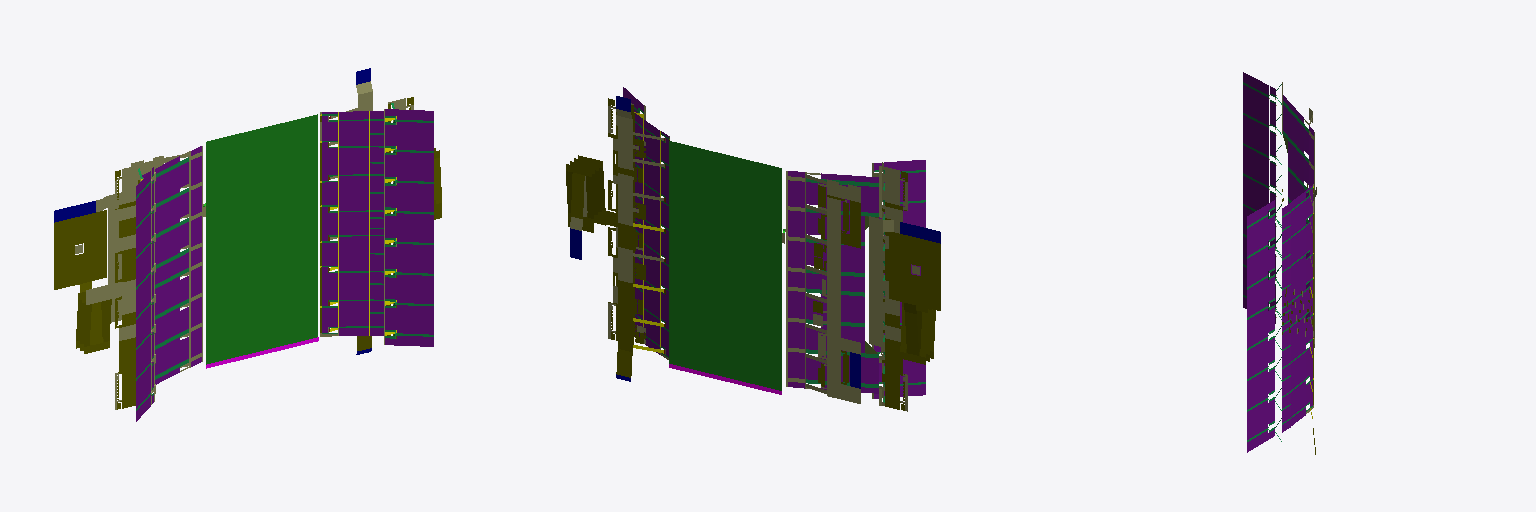
The model's file is USM.obj.
3 views of the same model, side by side, from view 1: azimuth 30°, elevation 25°; view 2: azimuth 150°, elevation 25°; view 3: azimuth 270°, elevation 25° (orthographic).
Parts seen in each view (by area): view 1: Mesh1 Model, Mesh2 Model; view 2: Mesh1 Model, Mesh2 Model; view 3: Mesh2 Model, Mesh1 Model.
Boxes of the visible parts, <box> form: Mesh1 Model: <box>54,114,318,421</box>; Mesh2 Model: <box>320,68,441,354</box>; Mesh1 Model: <box>669,141,940,411</box>; Mesh2 Model: <box>566,87,669,381</box>; Mesh2 Model: <box>1247,184,1316,454</box>; Mesh1 Model: <box>1243,72,1314,347</box>.
Bounding box in the file's own units: 705 × 510 × 122.